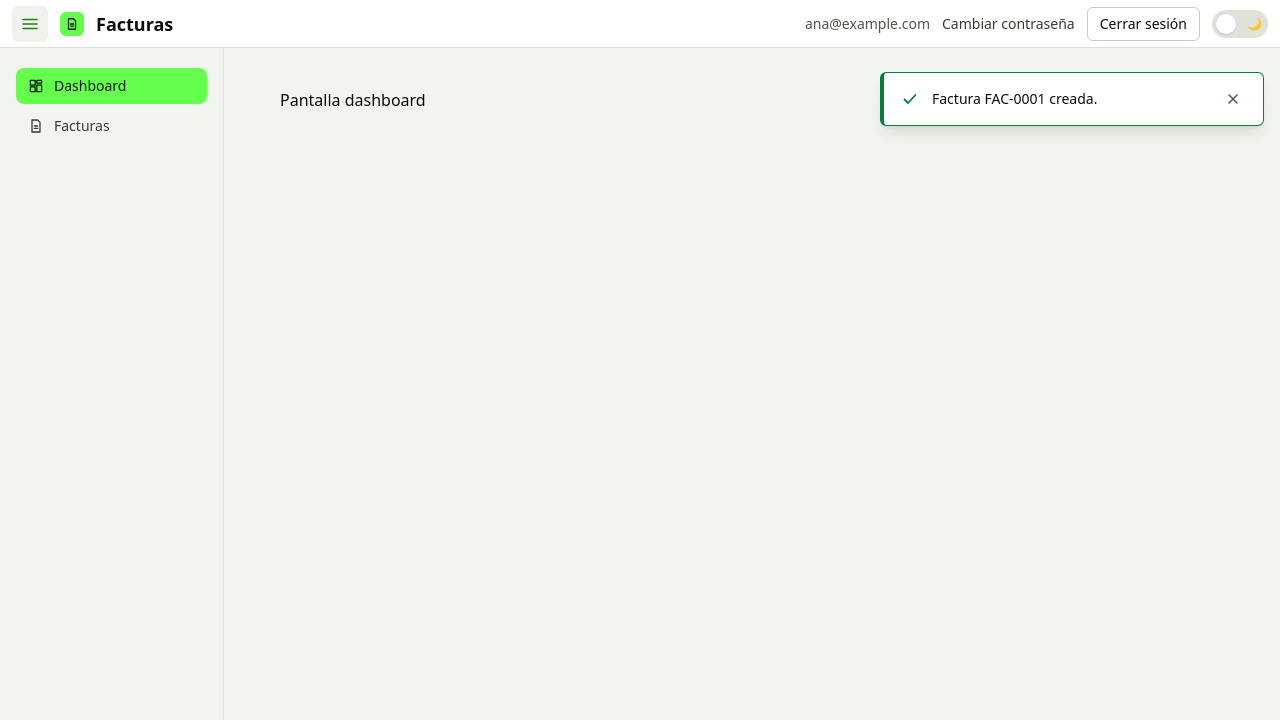
AppShell › muestra los avisos del store y conserva el aviso al navegar
This screenshot has width=1280, height=720.
Check: the message reads "Factura FAC-0001 creada.", box [932, 89, 1097, 108]
Click the link "Facturas": [69, 126] box [28, 116, 110, 135]
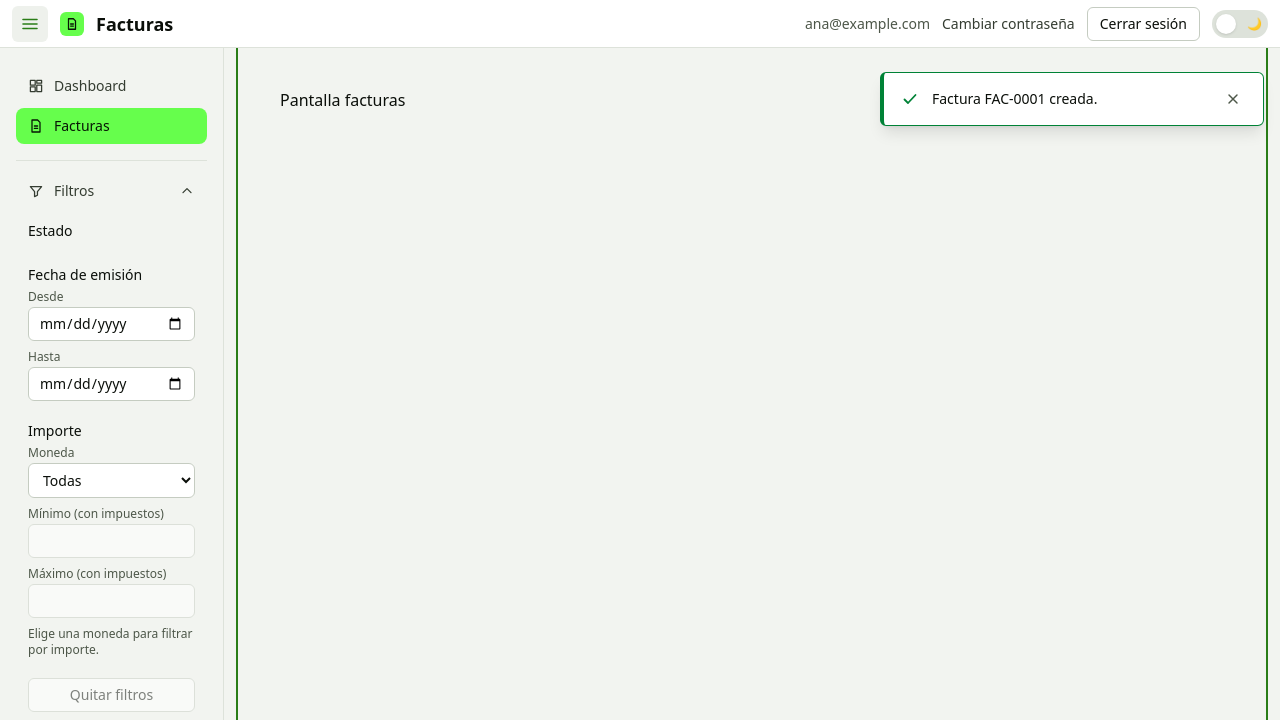
Check: the message reads "Factura FAC-0001 creada.", box [932, 89, 1097, 108]
Check: the text "Pantalla facturas" is shown, box [280, 89, 406, 111]
